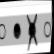correct: (11, 19, 24, 42)
not correct: (23, 12, 41, 52)
